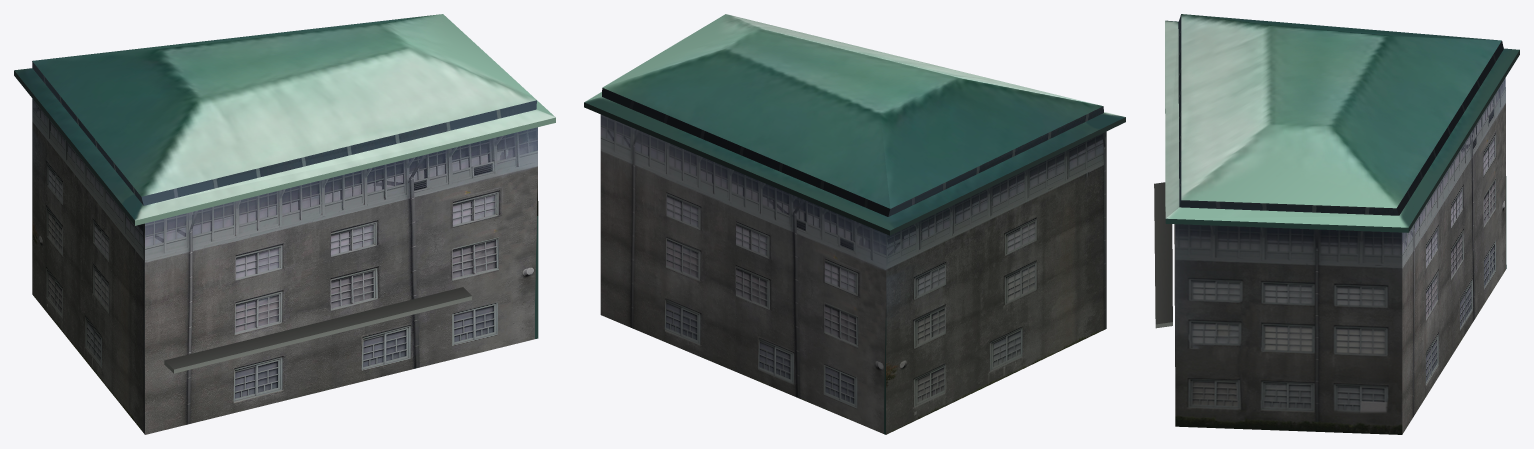
3 renders of one model, left to right at view 1: azimuth 30°, elevation 25°; view 2: azimuth 150°, elevation 25°; view 3: azimuth 270°, elevation 25°, orthographic. The views are drawn at different scales.
Visible parts, largest first — view 1: MainBuilding; view 2: MainBuilding; view 3: MainBuilding.
Boxes of the visible parts, <box> form: MainBuilding: <box>14,14,555,434</box>; MainBuilding: <box>584,14,1125,434</box>; MainBuilding: <box>1154,14,1519,434</box>.
Size of the model in its own units: 2.1 by 1.25 by 1.57.
1 material, 1 textured.
